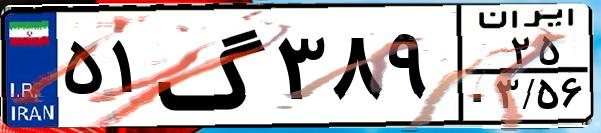0: (470, 70, 495, 125)
1: (110, 28, 156, 98)
2: (508, 27, 537, 80)
3: (270, 28, 330, 110), (495, 70, 520, 125)
5: (57, 26, 110, 100), (537, 27, 568, 80), (535, 70, 560, 125)
6: (560, 70, 590, 125)
8: (330, 28, 385, 110)
9: (385, 28, 445, 110)
گ: (156, 12, 270, 120)
